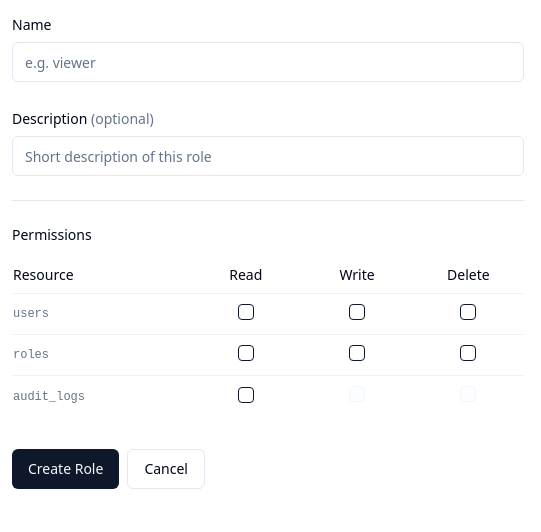
RoleForm › validation › shows a name-required error when submitting an empty form
Click the button "Create Role": [66, 469] box [12,449,119,489]
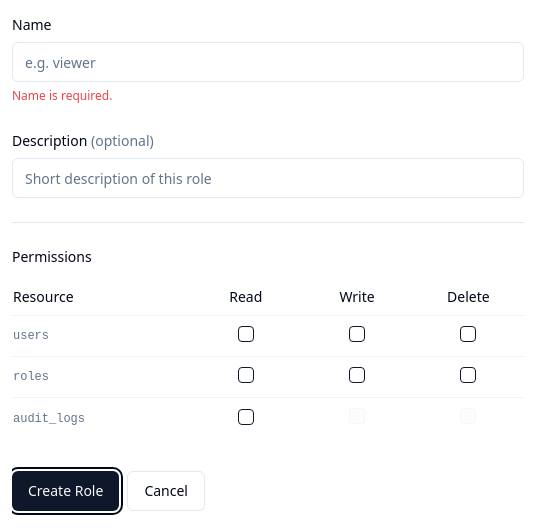
Now the text "Name is required." is shown, box [12,87,112,104]
